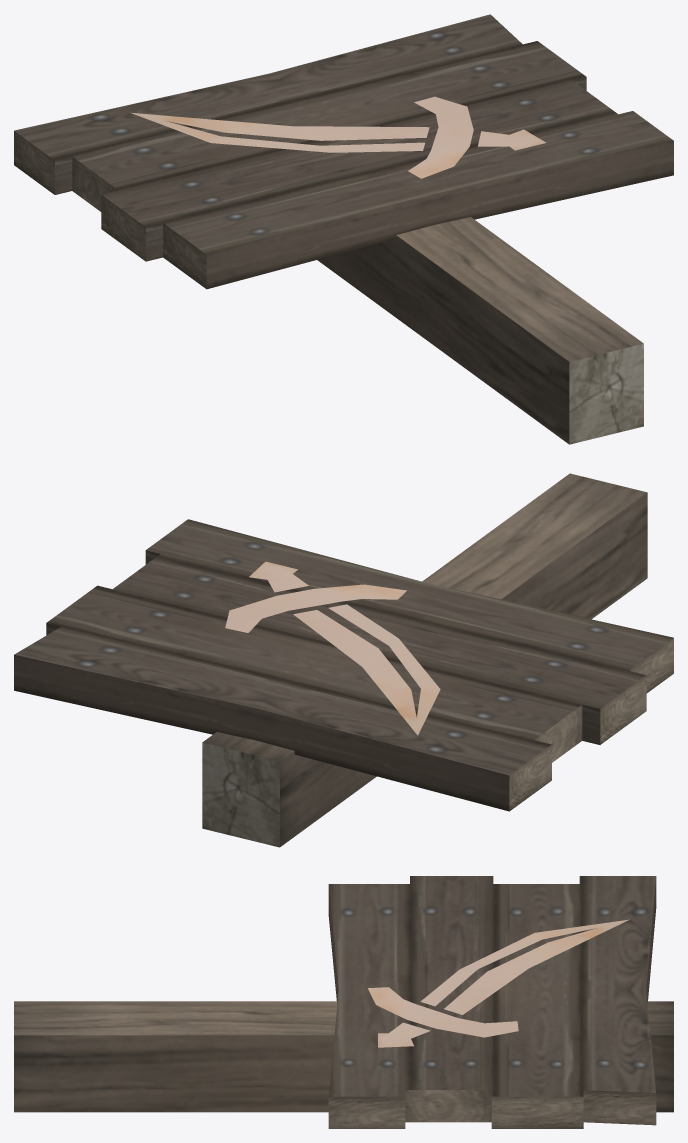
Rendered from Board_C.fbx.
The picture shows the model from 3 angles, top to bottom: view 1: azimuth 30°, elevation 25°; view 2: azimuth 150°, elevation 25°; view 3: azimuth 270°, elevation 25°; orthographic projection. The views are drawn at different scales.
Parts seen in each view (by area): view 1: Board_C; view 2: Board_C; view 3: Board_C.
Part boxes in pixels (<box>): Board_C: <box>14,14,673,444</box>; Board_C: <box>14,473,673,847</box>; Board_C: <box>14,876,673,1128</box>.
Bounding box in the file's own units: 1.29 × 0.2983 × 1.63.
